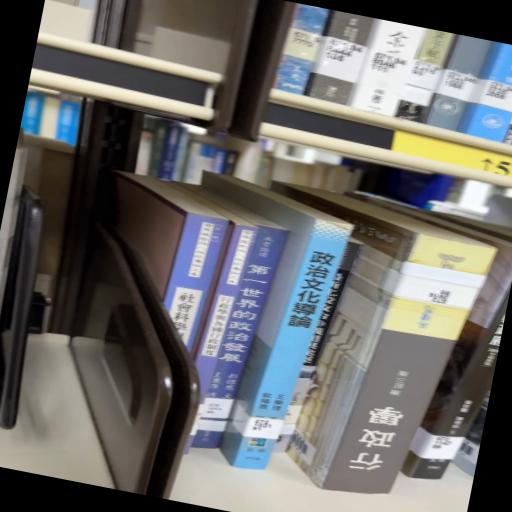reverse: (271, 183, 495, 494)
